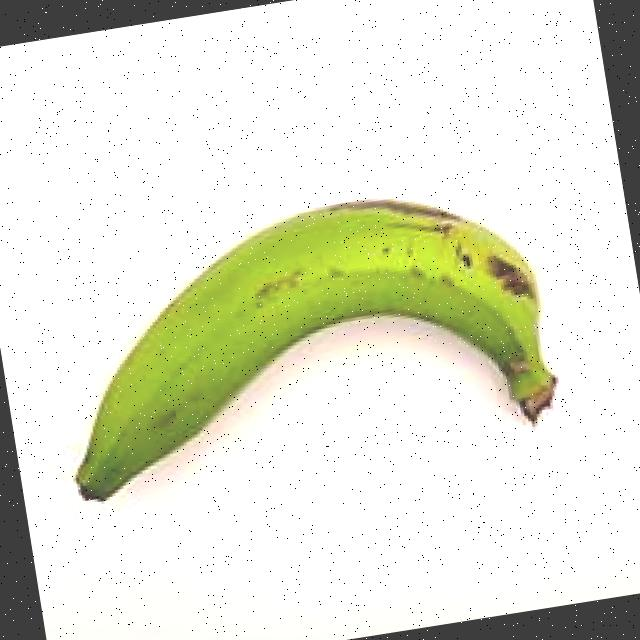Raw: (0, 126, 625, 558)
